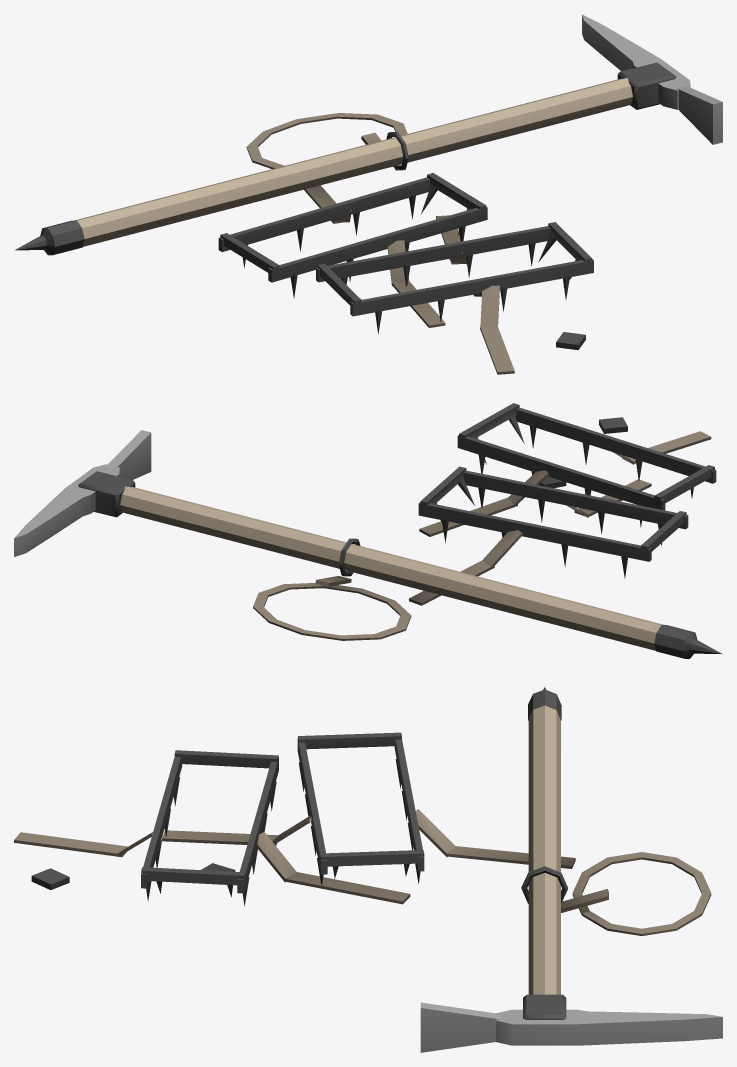
Rendered from ice_axe.glb.
3 renders of one model, top to bottom at view 1: azimuth 30°, elevation 25°; view 2: azimuth 150°, elevation 25°; view 3: azimuth 270°, elevation 25°, orthographic. The views are drawn at different scales.
Visible parts, largest first — view 1: static; view 2: static; view 3: static.
Boxes of the visible parts, left/top/right/bottom form: static: left=15, top=14, right=722, bottom=374; static: left=14, top=403, right=722, bottom=658; static: left=14, top=687, right=722, bottom=1052.
Bounding box in the file's own units: 0.786 × 0.0503 × 0.6564.
